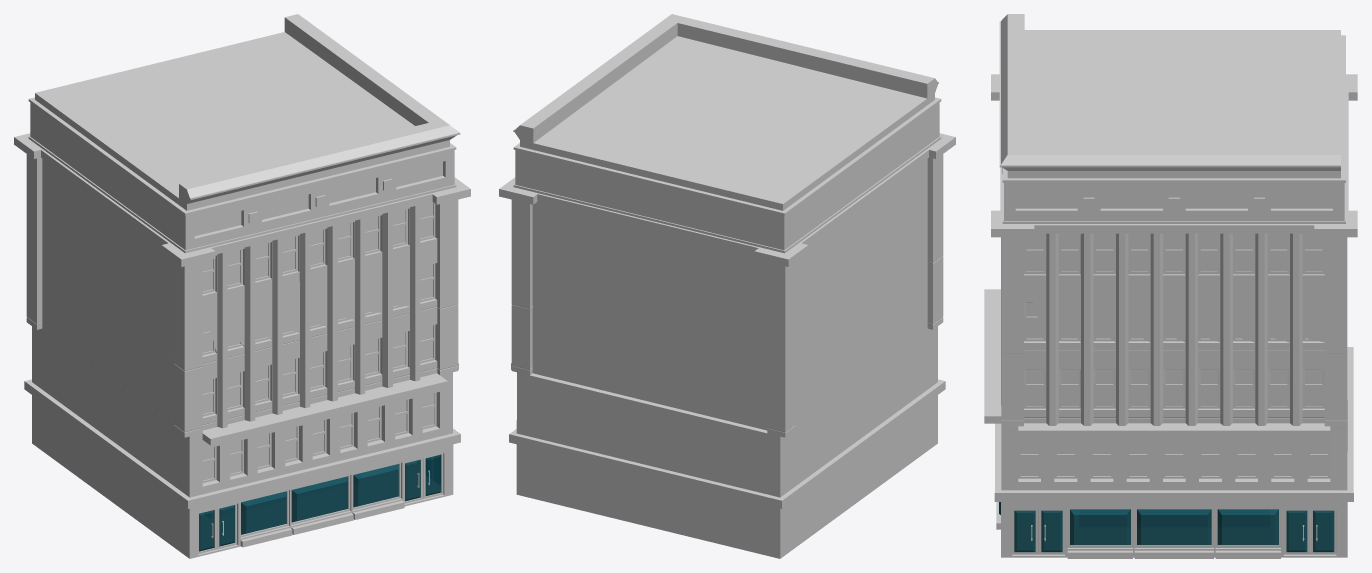
Rendered from building_office_corner_01_small.fbx.
3 renders of one model, left to right at view 1: azimuth 30°, elevation 25°; view 2: azimuth 150°, elevation 25°; view 3: azimuth 270°, elevation 25°, orthographic. The views are drawn at different scales.
Visible parts, largest first — view 1: building_office_corner_01_small, building_office_corner_01_floor_small_glass; view 2: building_office_corner_01_small; view 3: building_office_corner_01_small, building_office_corner_01_floor_small_glass.
Boxes of the visible parts, left/top/right/bottom form: building_office_corner_01_small: left=14, top=14, right=470, bottom=558; building_office_corner_01_floor_small_glass: left=199, top=454, right=440, bottom=551; building_office_corner_01_small: left=499, top=14, right=955, bottom=558; building_office_corner_01_small: left=984, top=14, right=1357, bottom=558; building_office_corner_01_floor_small_glass: left=999, top=502, right=1334, bottom=552.
Size of the model in its own units: 1982 by 2400 by 2017.
